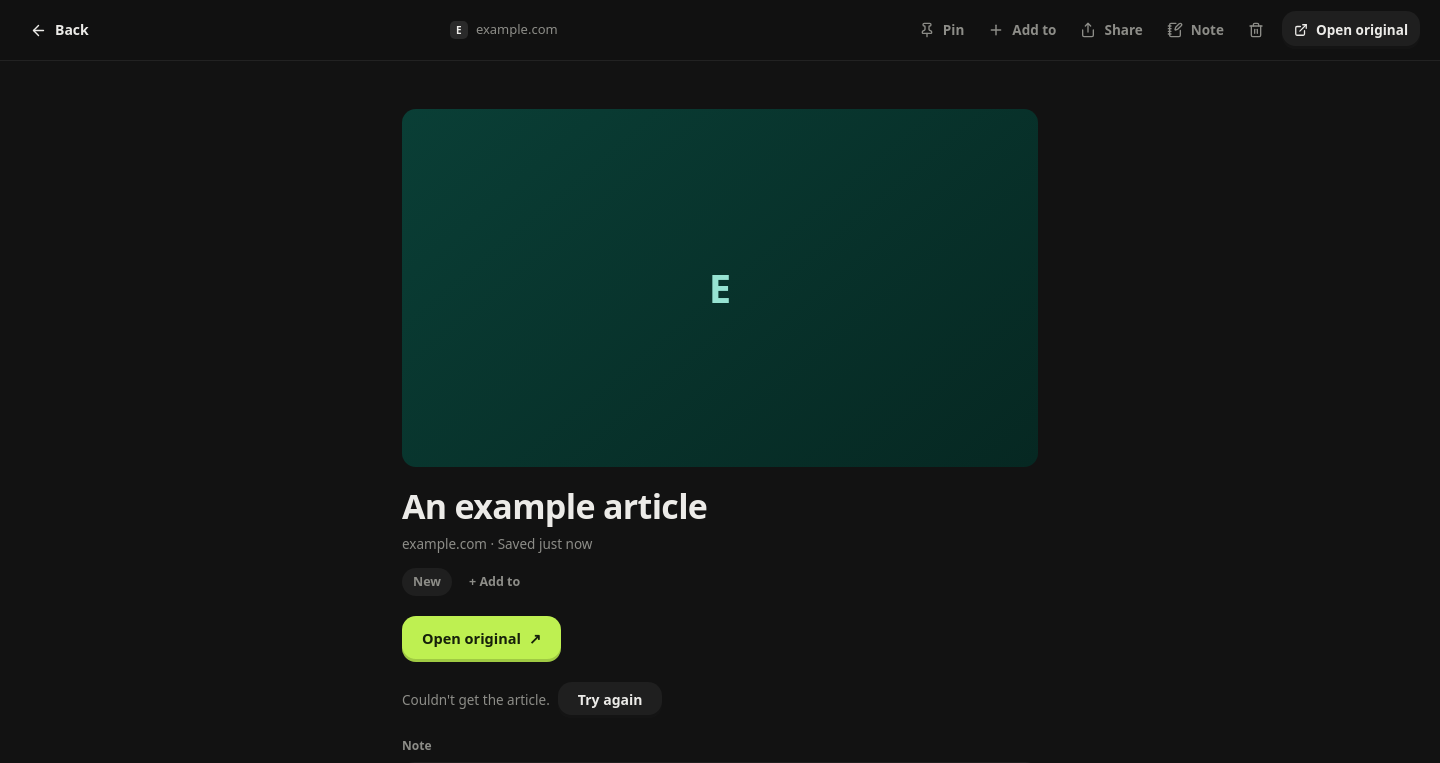
Test case: a link's preview › says the article could not be fetched, and Try again asks again
The width and height of the screenshot is (1440, 763).
Check: the message shows "Couldn't get the article.", box [402,691,550,709]
What coordinates should you click on to do the following:
click the button "Try again"
I would click on:
 (610, 700)
Its box is [558,682,662,718].
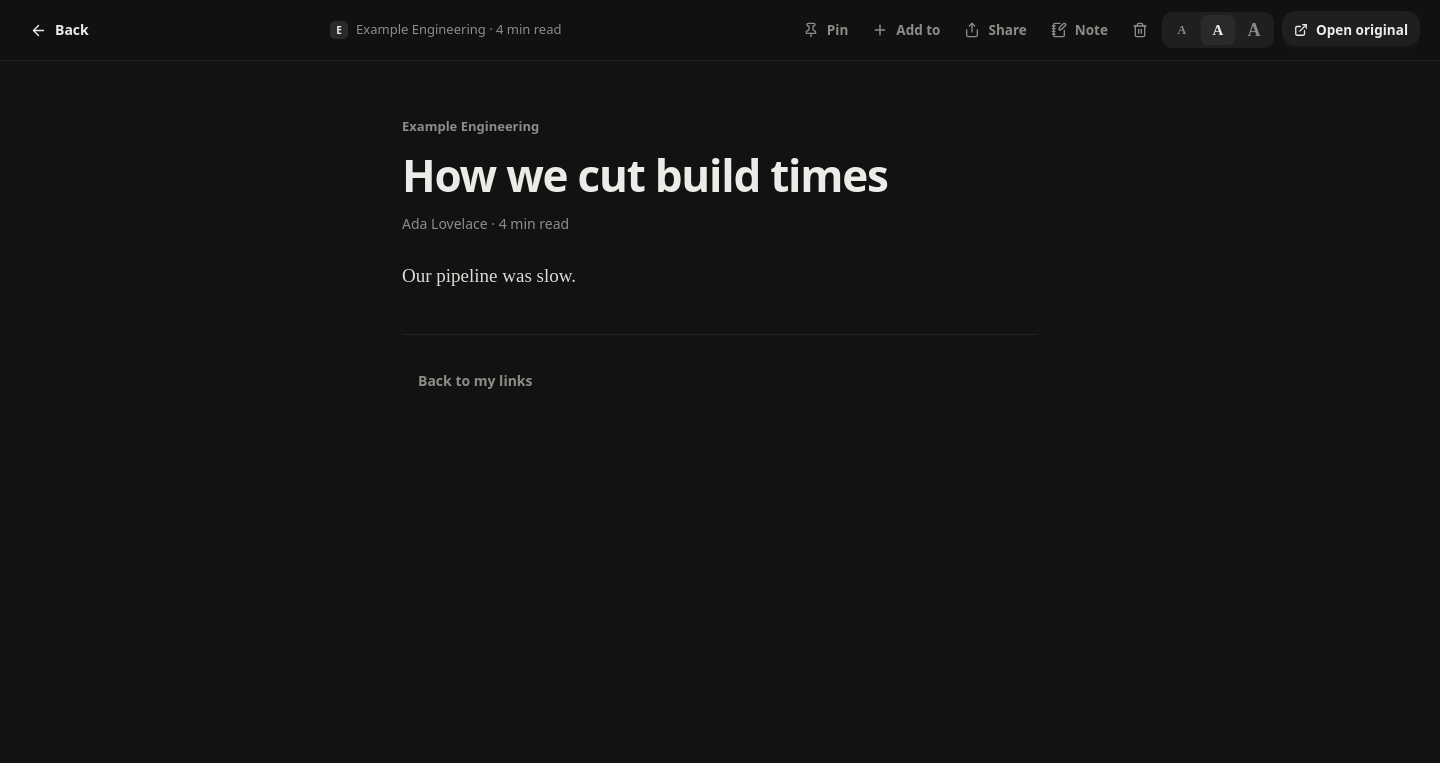
Check: the heading "How we cut build times" is shown, box [402,144,888,204]
